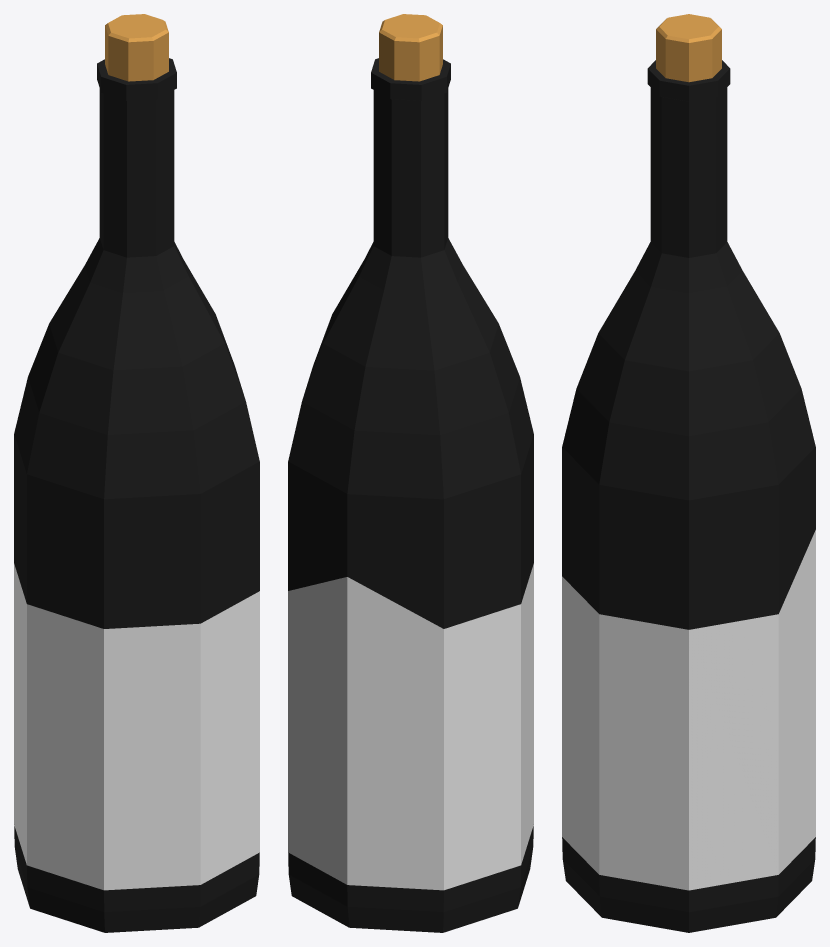
Rendered from Bottle_Of_Wine_10.gltf.
The picture shows the model from 3 angles, left to right: view 1: azimuth 30°, elevation 25°; view 2: azimuth 150°, elevation 25°; view 3: azimuth 270°, elevation 25°; orthographic projection.
Parts seen in each view (by area): view 1: node-0; view 2: node-0; view 3: node-0.
Part boxes in pixels (x1,y1,x2,y2): node-0: [14, 14, 259, 932]; node-0: [288, 14, 533, 932]; node-0: [562, 14, 815, 932].
Bounding box in the file's own units: 2.68 × 9.95 × 2.68.
